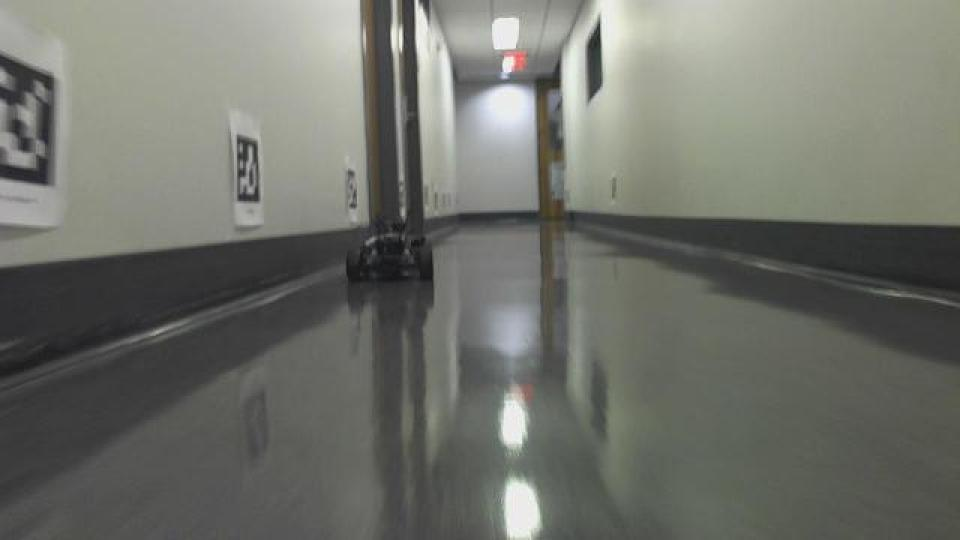car: (341, 215, 435, 286)
